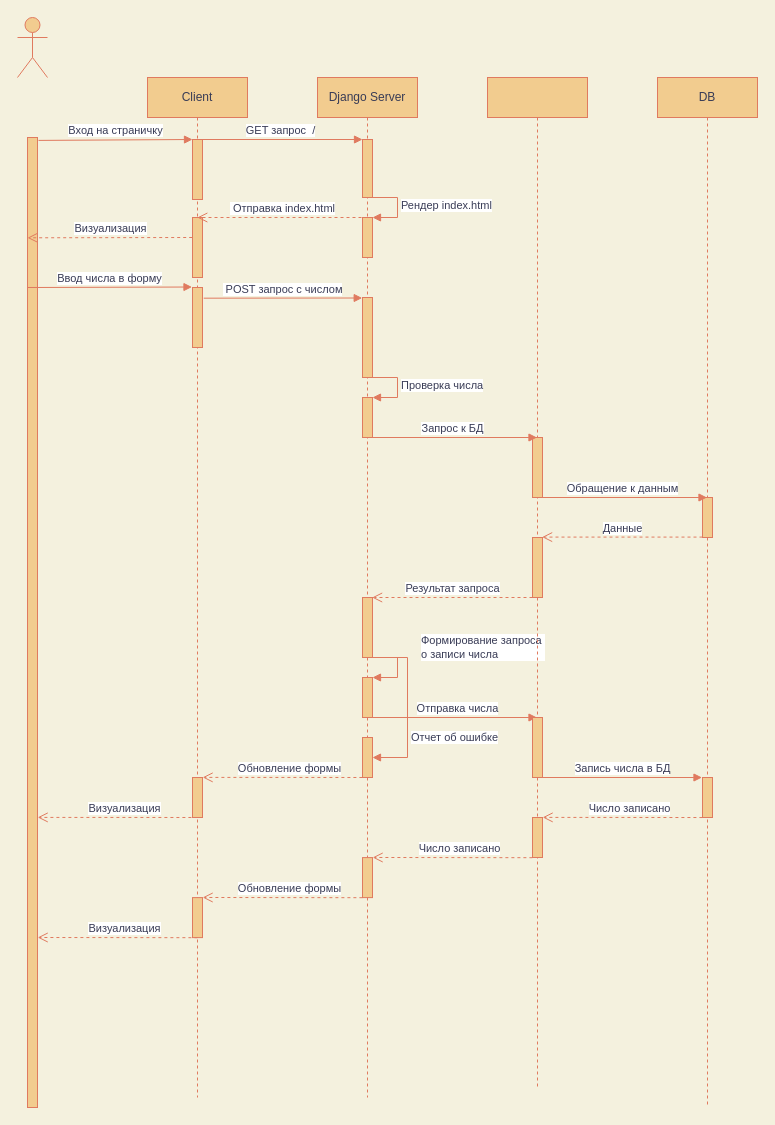
Image size: 775x1125. Some labels were removed from this diagram. Here are the shapes that lost their labels. From the top down, the centre of each, then its label:
the point at 32,47: Actor
the point at 537,582: DBMS
